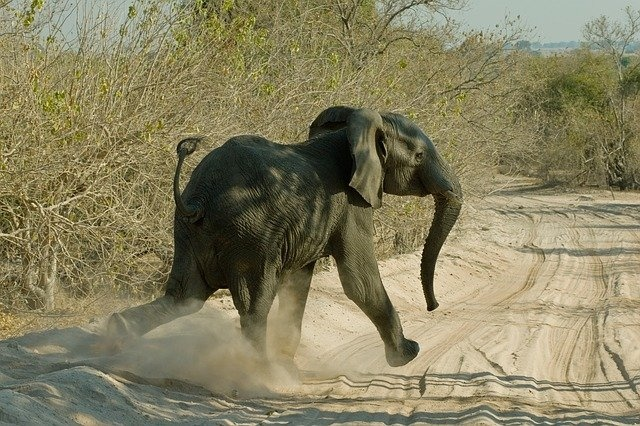elephant: (94, 106, 467, 379)
